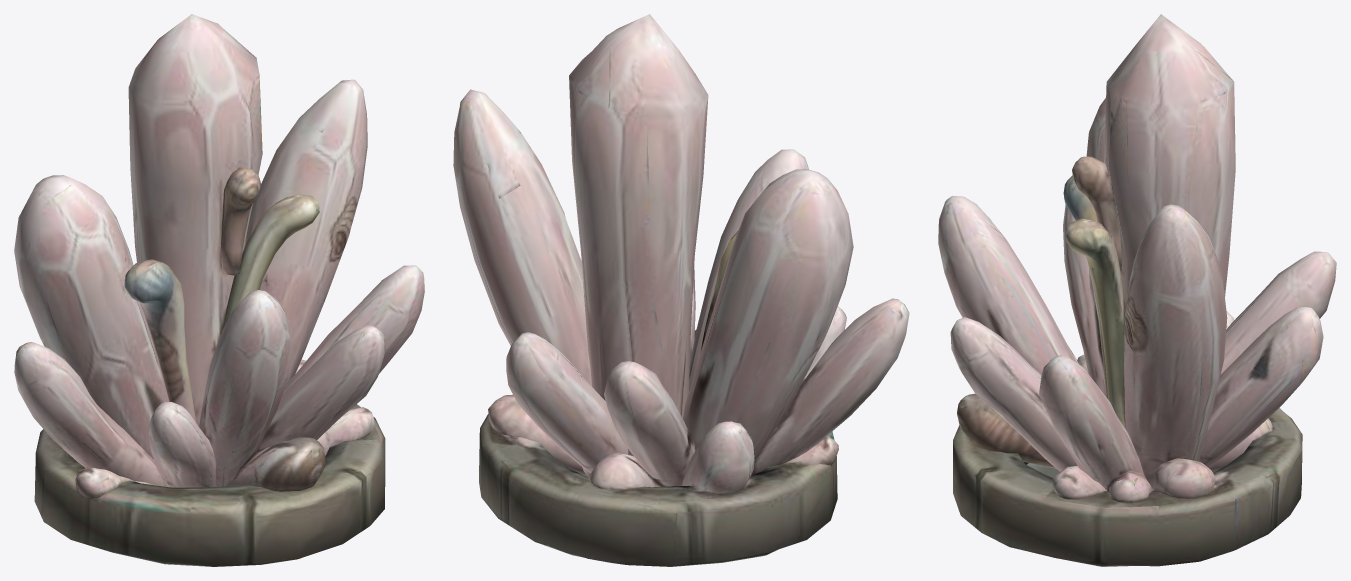
Rendered from cs_sal.glb.
The picture shows the model from 3 angles, left to right: view 1: azimuth 30°, elevation 25°; view 2: azimuth 150°, elevation 25°; view 3: azimuth 270°, elevation 25°; orthographic projection. The views are drawn at different scales.
Parts seen in each view (by area): view 1: mesh_node.003; view 2: mesh_node.003; view 3: mesh_node.003.
Part boxes in pixels (x1,y1,x2,y2): mesh_node.003: (14,14,424,566); mesh_node.003: (453,14,909,566); mesh_node.003: (938,14,1336,566).
Size of the model in its own units: 0.29 by 0.3428 by 0.2505.
Materials: 1 (1 with a texture image).
